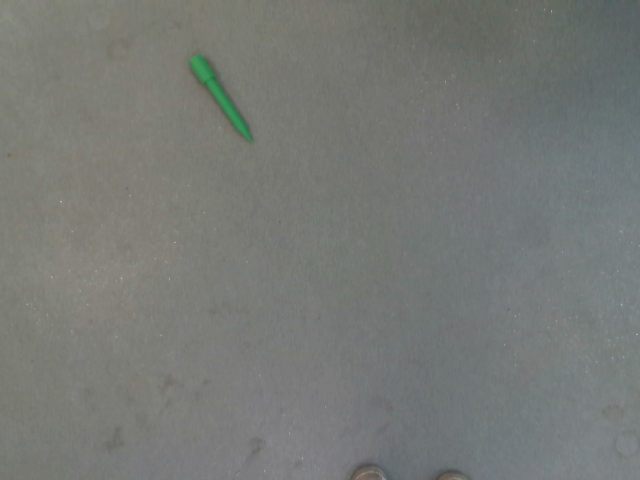Probe: (184, 48, 261, 146)
